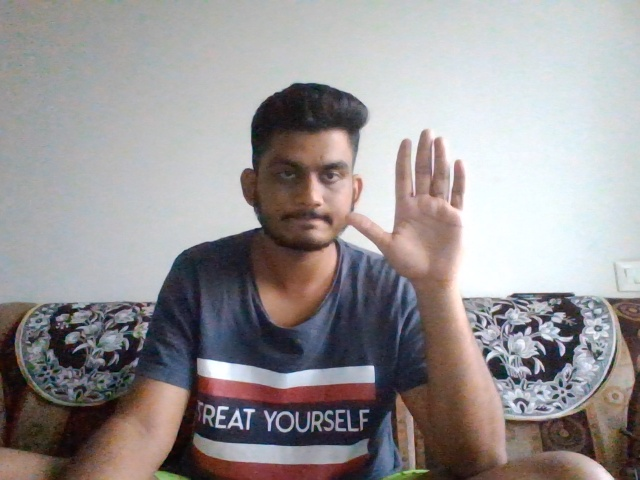Hello: (346, 127, 484, 284)
